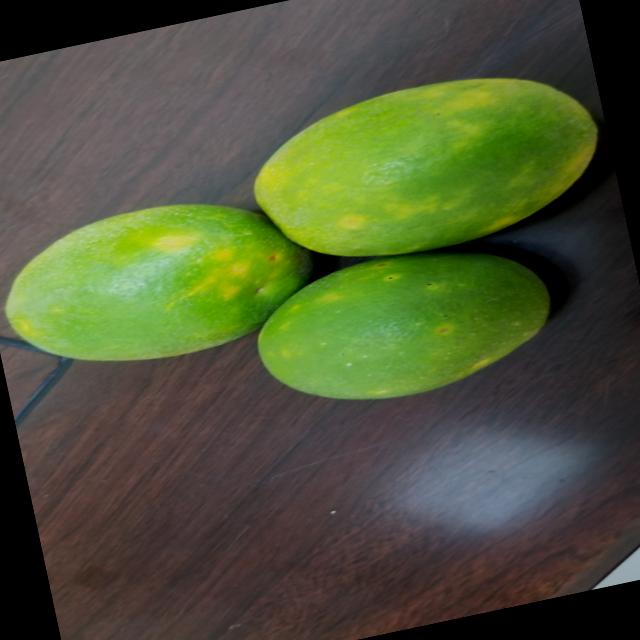Ripe orange: (239, 53, 609, 276), (250, 221, 588, 450), (0, 170, 322, 398)
